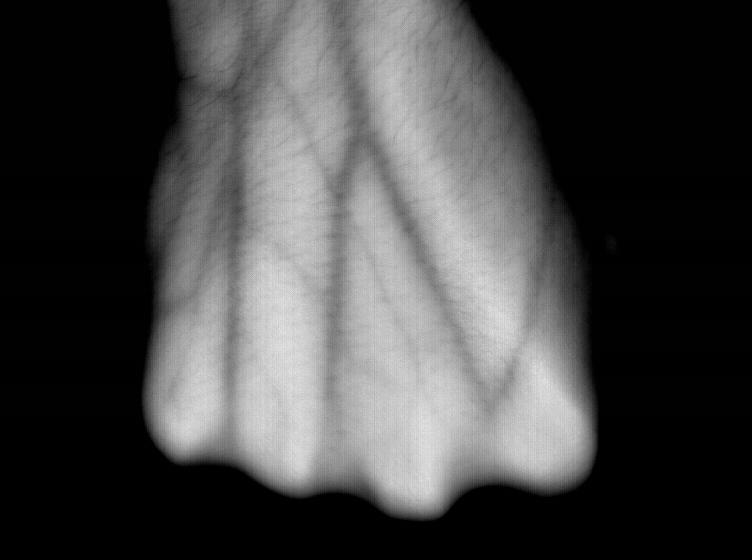Vein: (326, 13, 481, 392)
